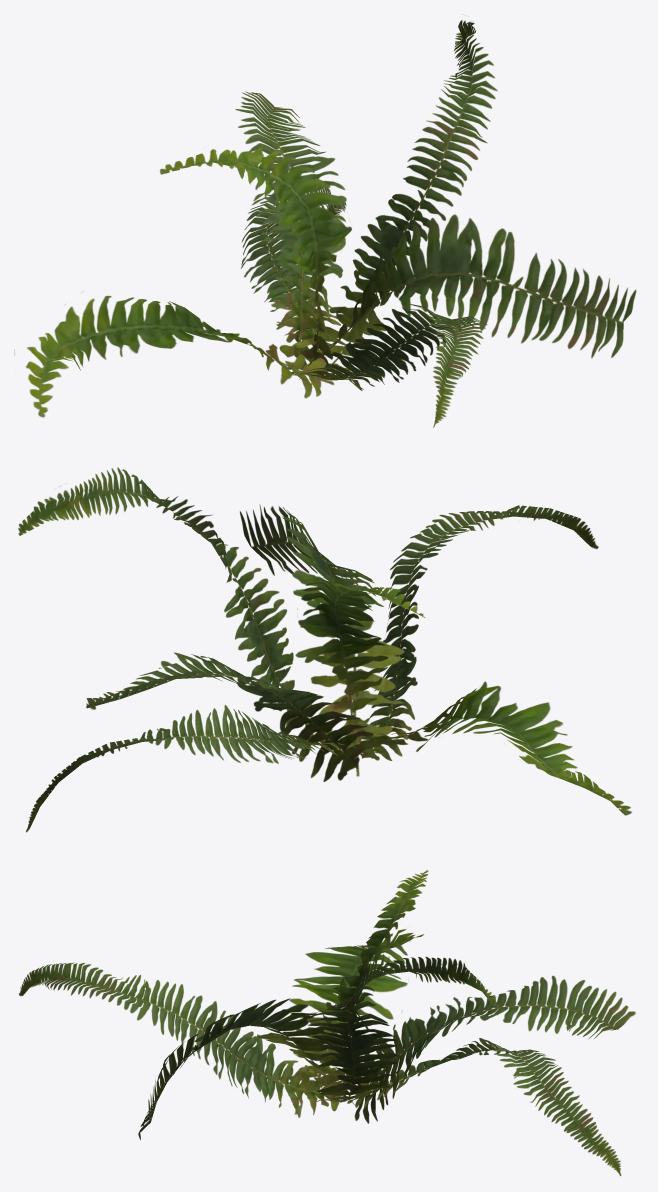
The model's file is fern_02_a.glb.
The picture shows the model from 3 angles, top to bottom: view 1: azimuth 30°, elevation 25°; view 2: azimuth 150°, elevation 25°; view 3: azimuth 270°, elevation 25°; orthographic projection. The views are drawn at different scales.
Visible parts, largest first — view 1: fern_02_a; view 2: fern_02_a; view 3: fern_02_a.
Boxes of the visible parts, <box> form: fern_02_a: <box>14,14,636,427</box>; fern_02_a: <box>18,467,631,832</box>; fern_02_a: <box>19,870,635,1175</box>.
Bounding box in the file's own units: 0.5519 × 0.2868 × 0.6134.
Materials: 1 (1 with a texture image).
